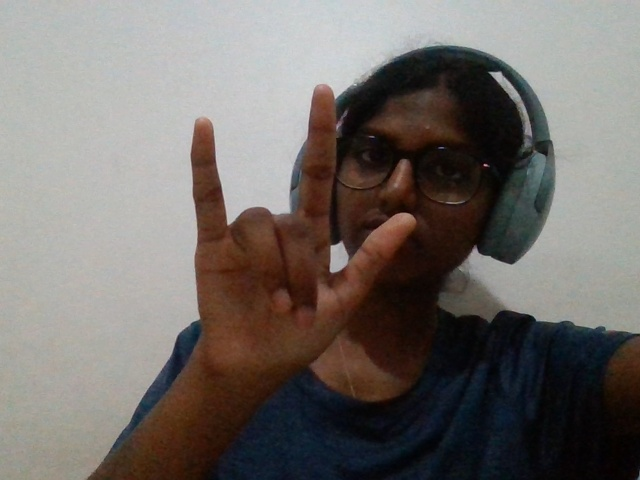I Love You: (145, 67, 443, 435)
